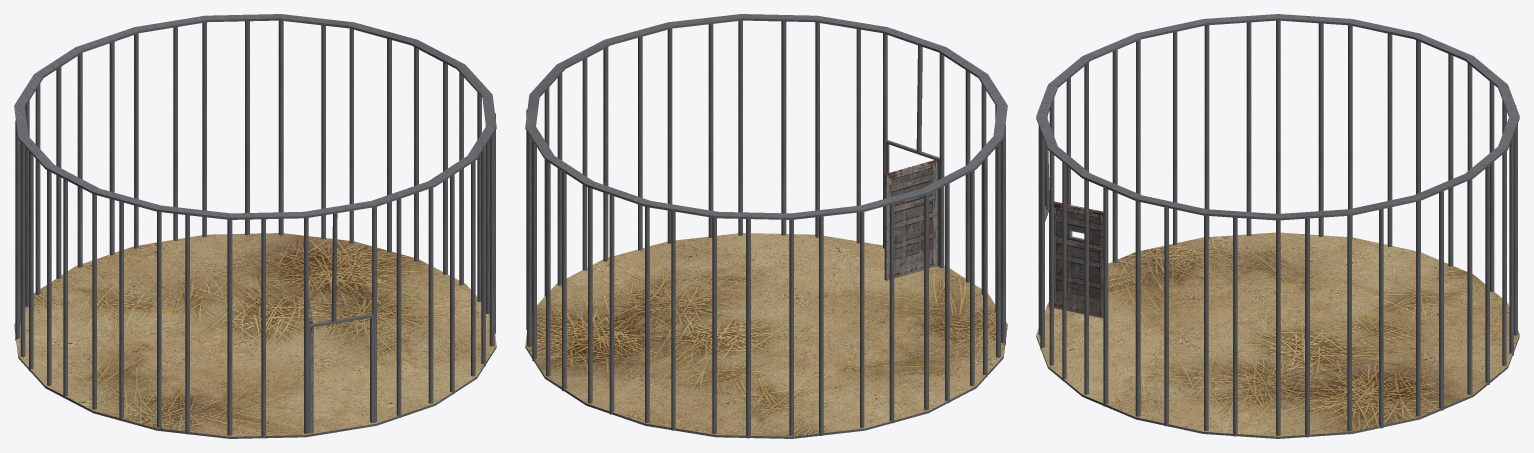
Rendered from round cage.FBX.
3 renders of one model, left to right at view 1: azimuth 30°, elevation 25°; view 2: azimuth 150°, elevation 25°; view 3: azimuth 270°, elevation 25°, orthographic.
Parts seen in each view (by area): view 1: Cylinder008; view 2: Cylinder008; view 3: Cylinder008.
Boxes of the visible parts, bbox=[...] form: Cylinder008: bbox=[14, 14, 496, 438]; Cylinder008: bbox=[525, 14, 1007, 438]; Cylinder008: bbox=[1036, 14, 1519, 438].
Size of the model in its own units: 200 by 101 by 200.
Materials: 1 (1 with a texture image).
